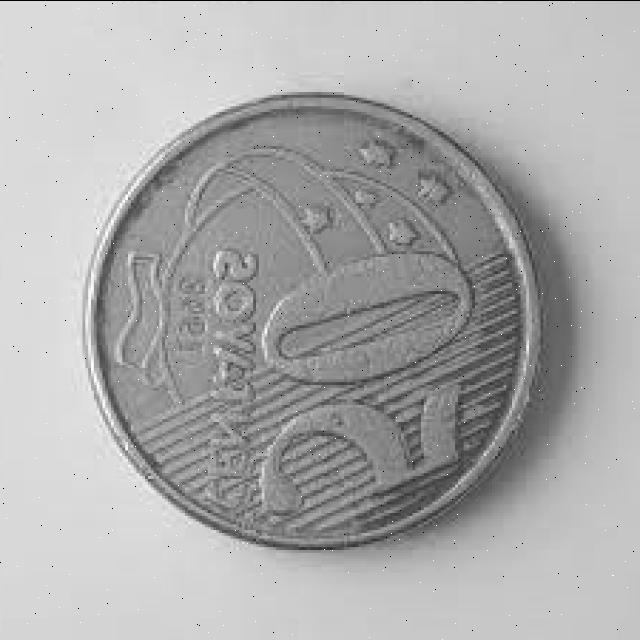50 cent: (79, 94, 543, 546)
